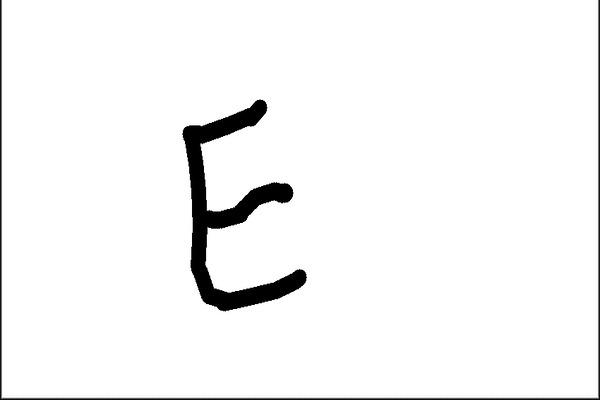E: (178, 96, 310, 311)
